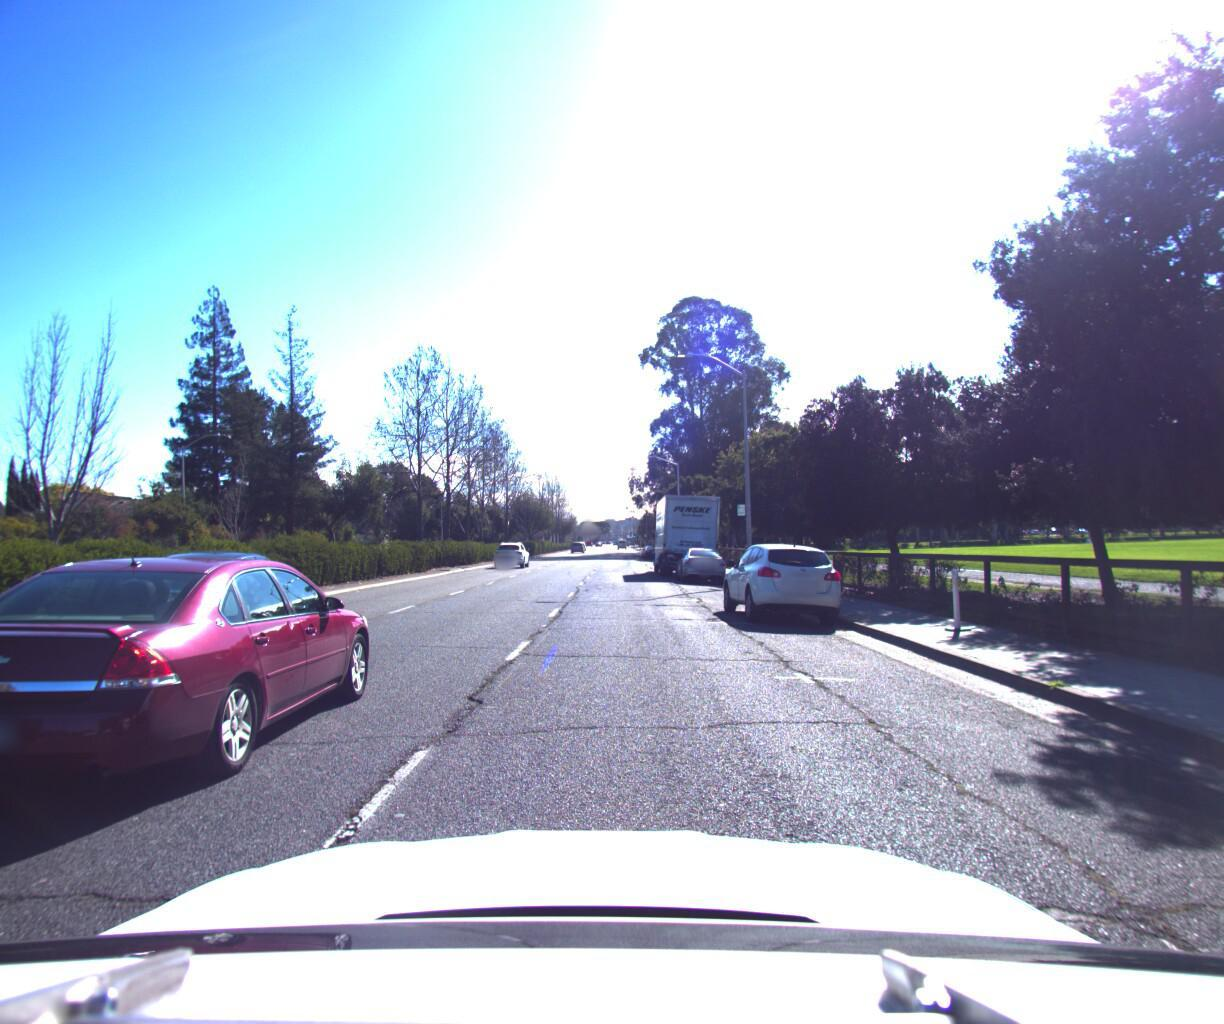car: (0, 537, 390, 833), (712, 529, 850, 623), (669, 535, 728, 577), (490, 527, 531, 557)
truck: (647, 482, 723, 571)
